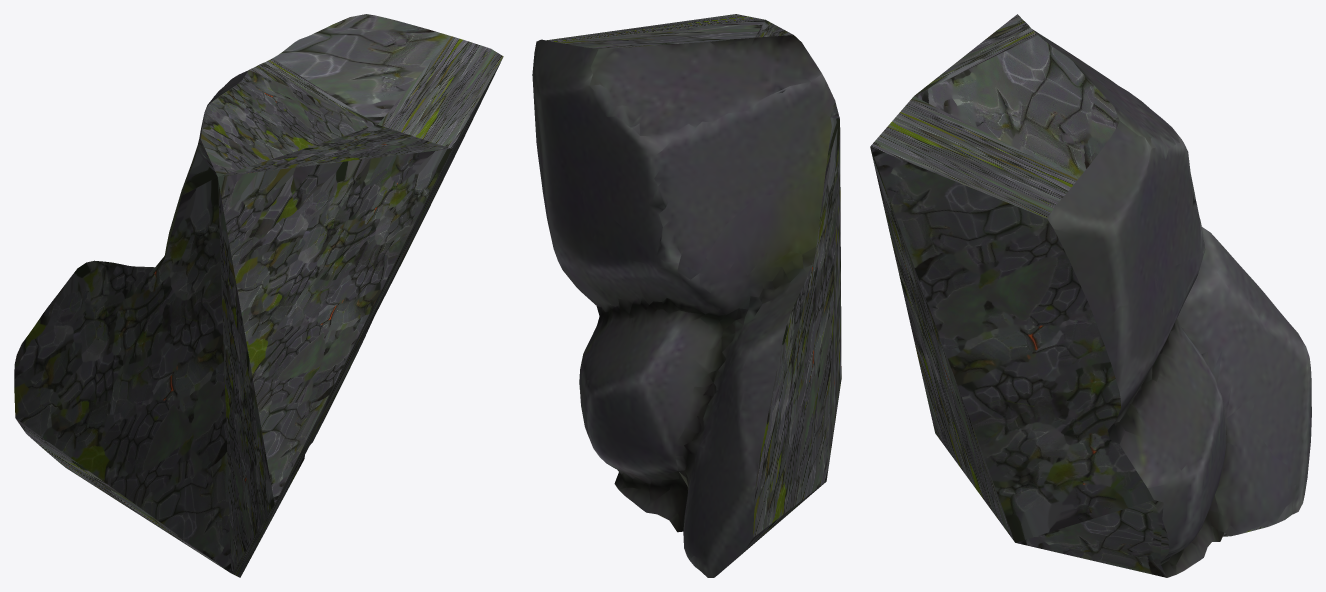
File: Frag_15.gltf
The picture shows the model from 3 angles, left to right: view 1: azimuth 30°, elevation 25°; view 2: azimuth 150°, elevation 25°; view 3: azimuth 270°, elevation 25°; orthographic projection. The views are drawn at different scales.
Parts seen in each view (by area): view 1: Frag_15; view 2: Frag_15; view 3: Frag_15.
Boxes of the visible parts, left/top/right/bottom form: Frag_15: left=14, top=14, right=503, bottom=577; Frag_15: left=532, top=14, right=841, bottom=577; Frag_15: left=870, top=14, right=1311, bottom=577.
Bounding box in the file's own units: 0.2392 × 0.3164 × 0.2373.
Materials: 1 (1 with a texture image).
